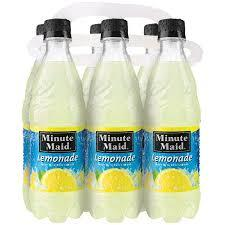Plastic bottle: (24, 18, 86, 223), (88, 18, 145, 222), (147, 18, 202, 225)
